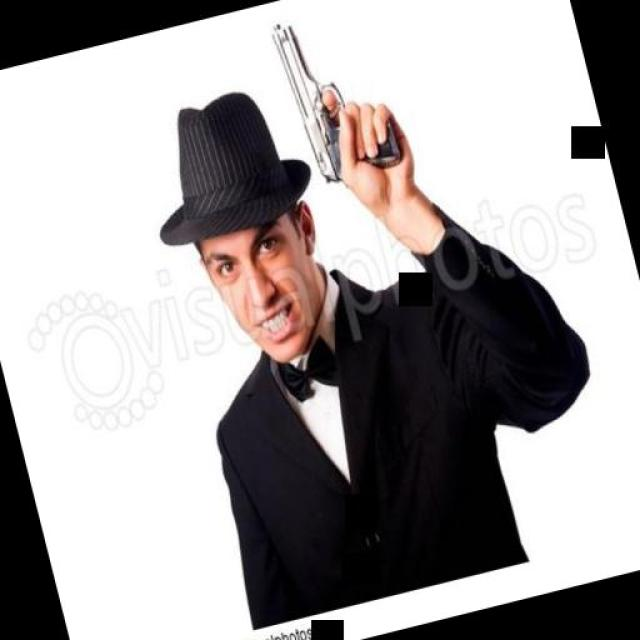gun: (266, 0, 405, 194)
